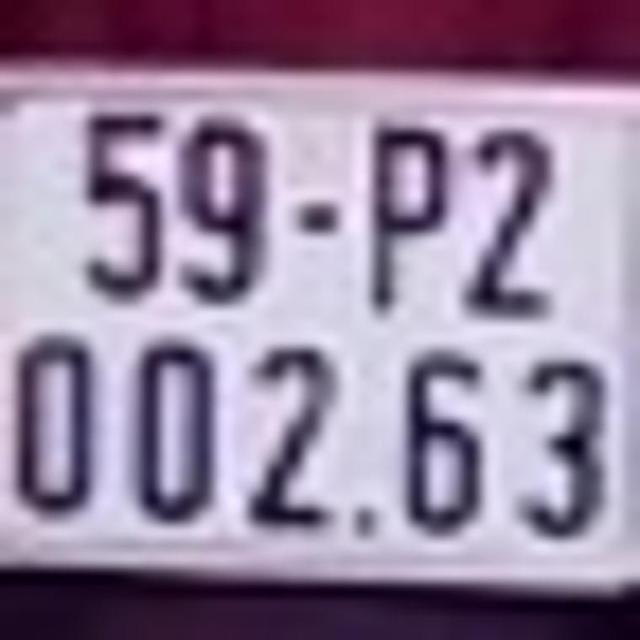0: (133, 333, 219, 525), (12, 327, 96, 518)
2: (464, 114, 564, 324), (243, 335, 341, 530)
3: (516, 346, 611, 541)
5: (80, 106, 167, 300)
6: (401, 339, 488, 535)
9: (175, 105, 271, 308)
P: (360, 109, 453, 318)
